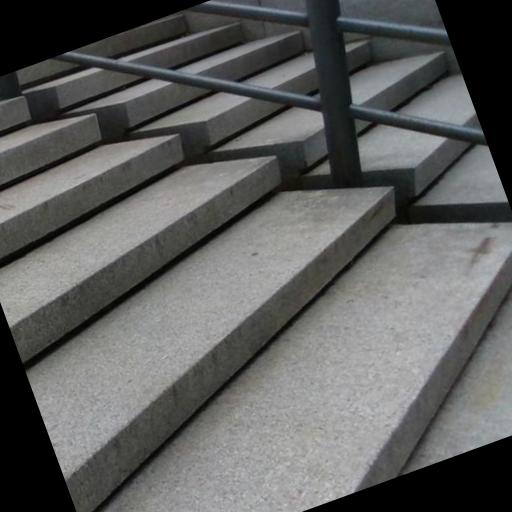stairs: (0, 60, 511, 511), (100, 224, 511, 511), (403, 294, 511, 474), (130, 93, 280, 157), (67, 80, 207, 140), (210, 108, 327, 179), (360, 126, 467, 200), (410, 146, 511, 222), (0, 115, 100, 189), (124, 24, 242, 67)
